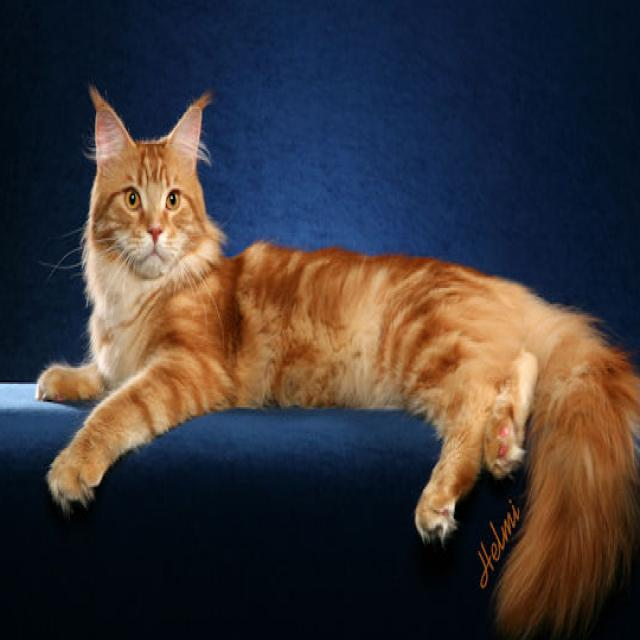Maine Coon: (27, 71, 640, 640)
